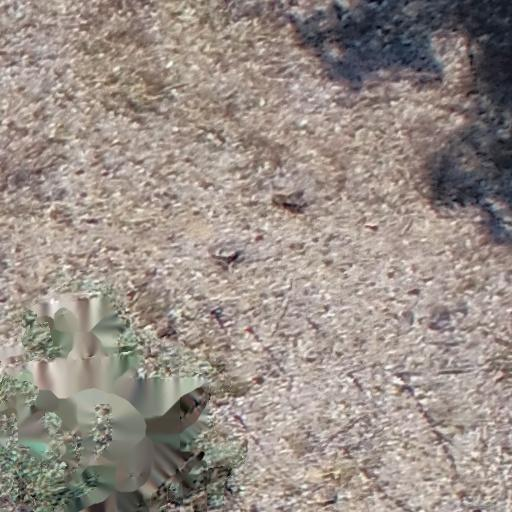stone: (272, 185, 309, 213), (208, 244, 245, 262)
